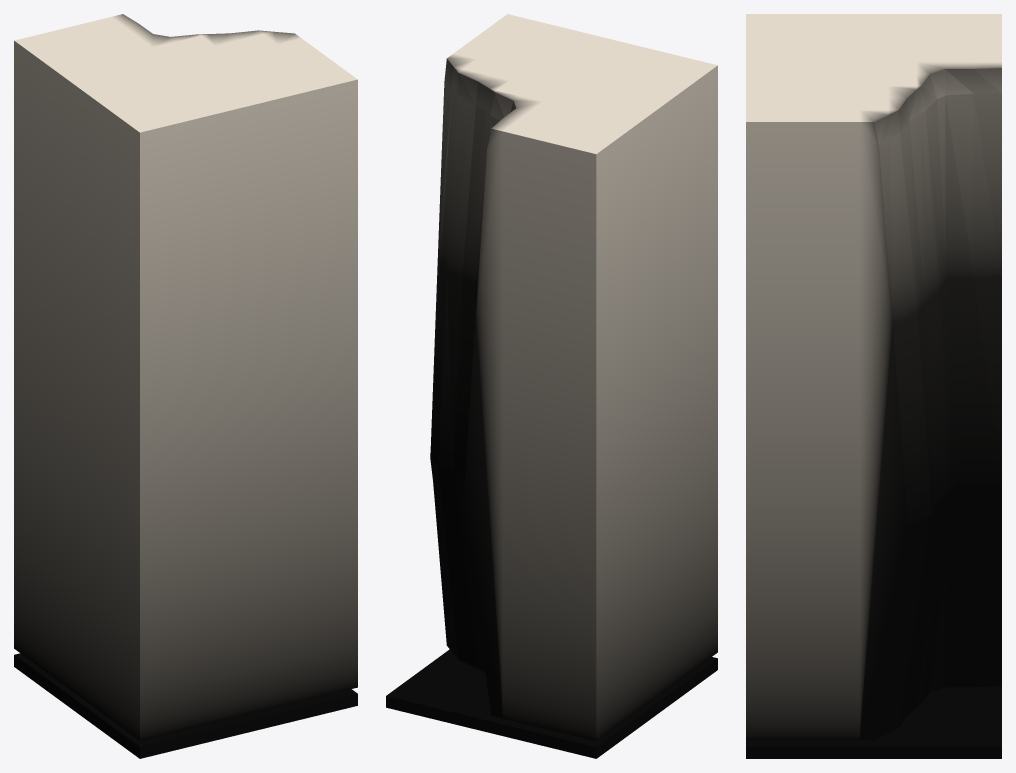
Rendered from SM_VKI_Ground_Cave_OOXO_Q01.fbx.
3 renders of one model, left to right at view 1: azimuth 30°, elevation 25°; view 2: azimuth 150°, elevation 25°; view 3: azimuth 270°, elevation 25°, orthographic. The views are drawn at different scales.
Visible parts, largest first — view 1: SM_VKI_Ground_Cave_OOXO_Q01.001; view 2: SM_VKI_Ground_Cave_OOXO_Q01.001; view 3: SM_VKI_Ground_Cave_OOXO_Q01.001.
Part boxes in pixels (x1,y1,x2,y2): SM_VKI_Ground_Cave_OOXO_Q01.001: (14, 14, 357, 758); SM_VKI_Ground_Cave_OOXO_Q01.001: (386, 14, 717, 758); SM_VKI_Ground_Cave_OOXO_Q01.001: (746, 14, 1001, 758).
Size of the model in its own units: 1.5 by 4.12 by 1.5.
